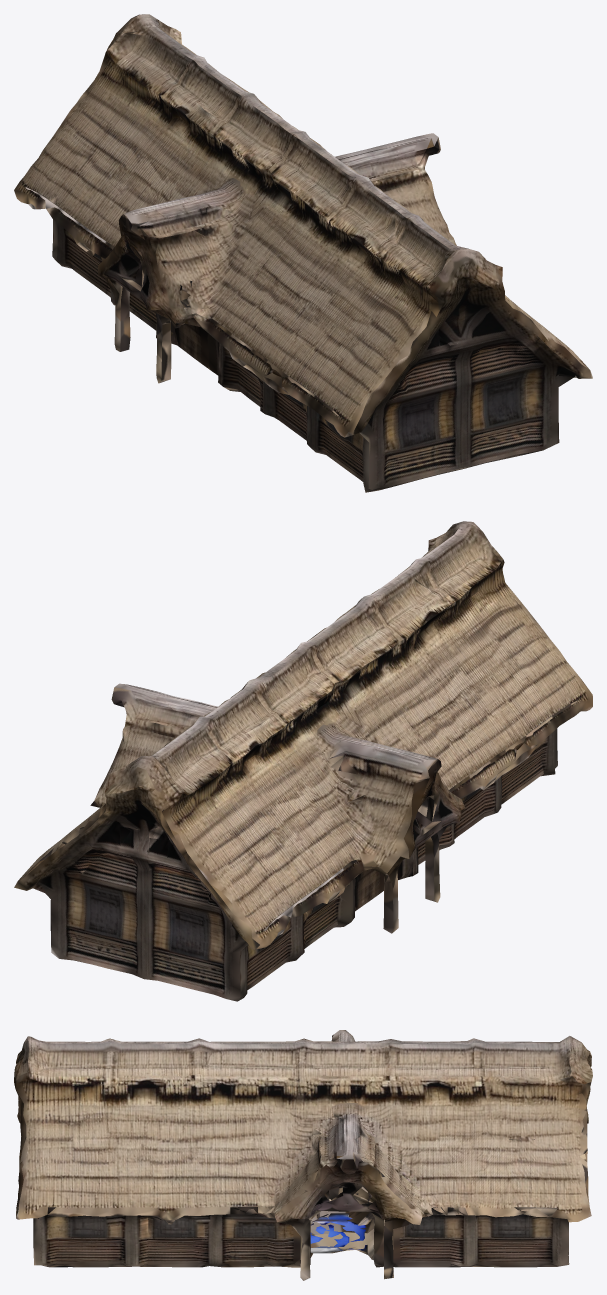
Rendered from longhouse.glb.
The picture shows the model from 3 angles, top to bottom: view 1: azimuth 30°, elevation 25°; view 2: azimuth 150°, elevation 25°; view 3: azimuth 270°, elevation 25°; orthographic projection. The views are drawn at different scales.
Visible parts, largest first — view 1: Medieval Longhouse; view 2: Medieval Longhouse; view 3: Medieval Longhouse.
Part boxes in pixels (x1,y1,x2,y2): Medieval Longhouse: (14, 14, 592, 492); Medieval Longhouse: (14, 521, 592, 1001); Medieval Longhouse: (14, 1030, 592, 1280).
Bounding box in the file's own units: 25.96 × 18 × 48.76.
Materials: 1 (1 with a texture image).
